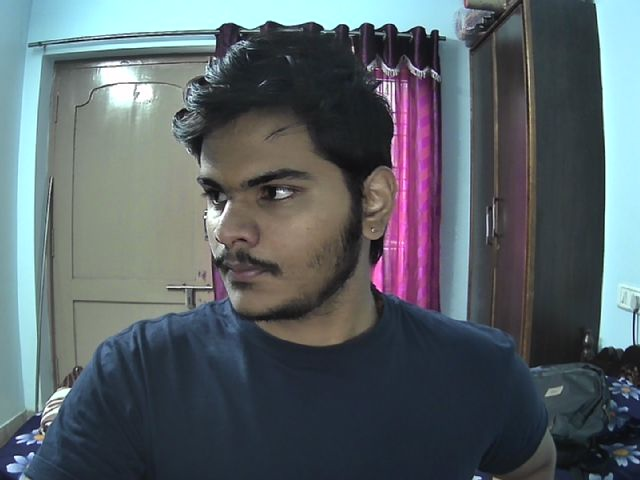NoMask: (206, 212, 362, 319)
